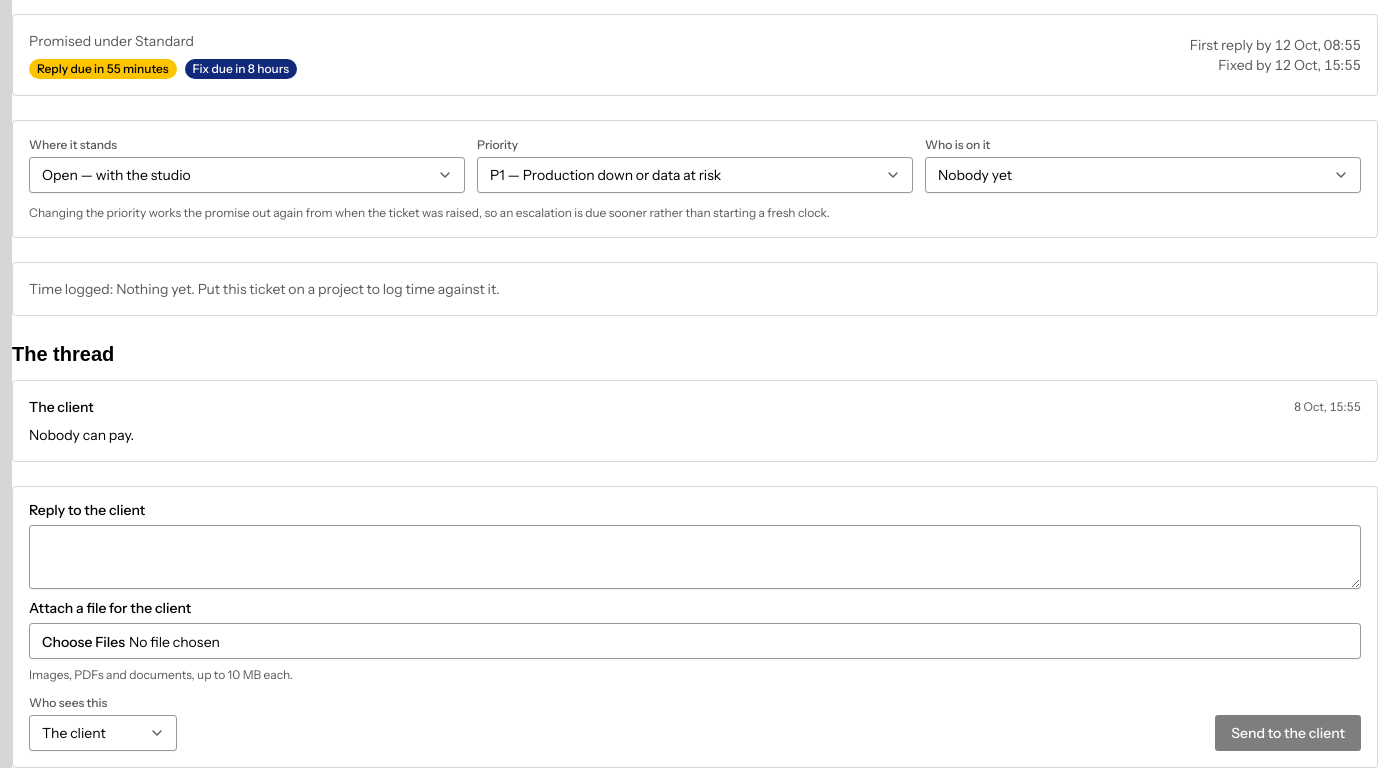
one ticket › warns that a note is not the first reply
(page scrolled)
Select "Only the studio" in the dropdown labelled "Who sees this": (103, 733) [29,715,177,751]
(page scrolled)
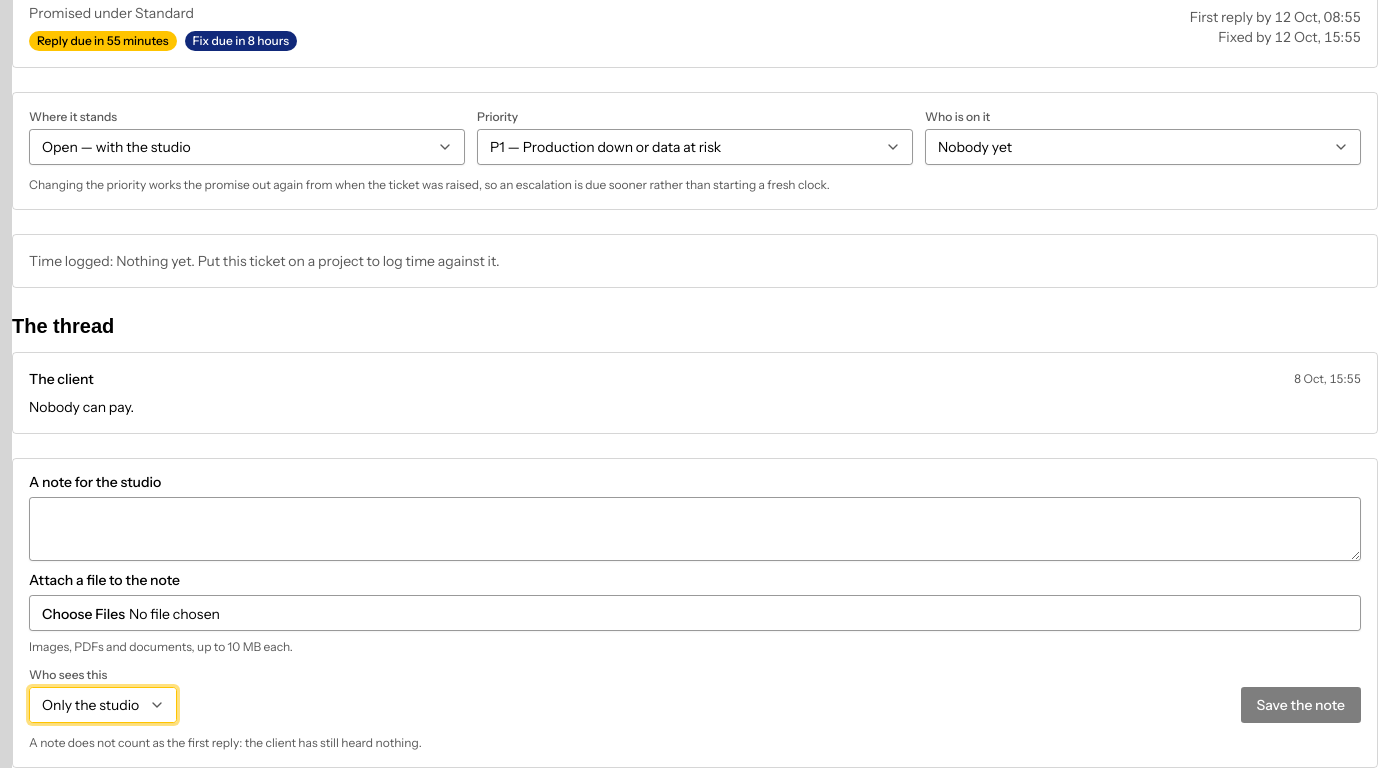
expect the text "does not count as the first reply" is shown: met, box [29,735,422,750]
